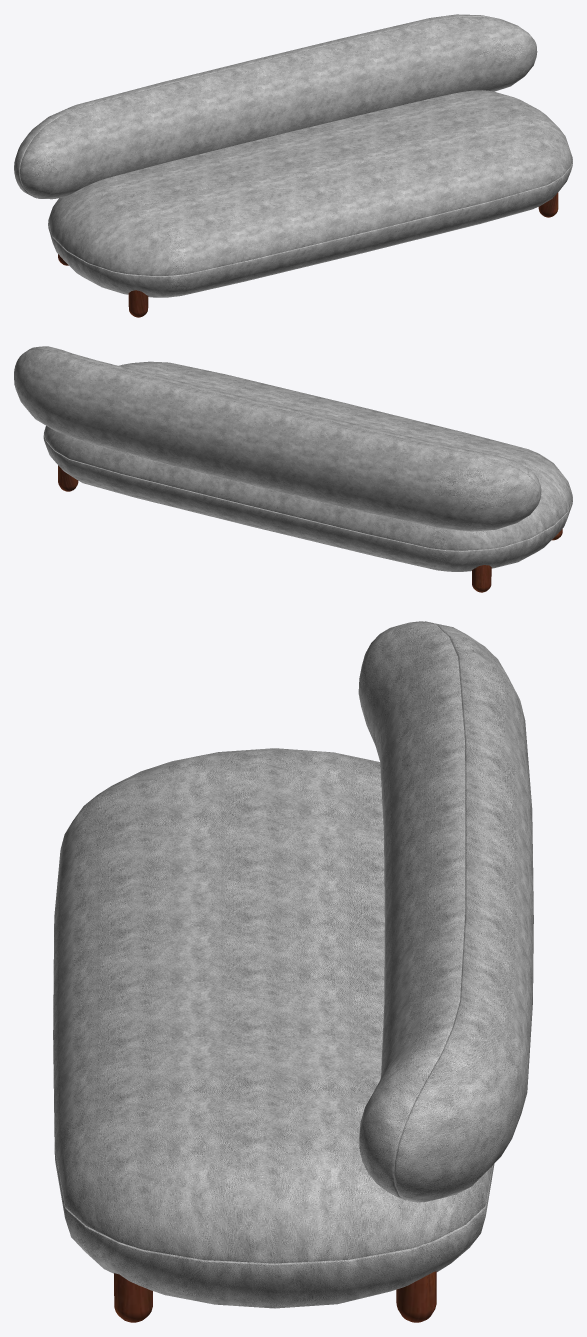
The model's file is redleather_wood-transformed.glb.
3 renders of one model, top to bottom at view 1: azimuth 30°, elevation 25°; view 2: azimuth 150°, elevation 25°; view 3: azimuth 270°, elevation 25°, orthographic. The views are drawn at different scales.
Visible parts, largest first — view 1: Divano_3; view 2: Divano_3; view 3: Divano_3.
Part boxes in pixels (<box>): Divano_3: <box>14,14,572,317</box>; Divano_3: <box>14,346,572,592</box>; Divano_3: <box>53,621,533,1322</box>.
Bounding box in the file's own units: 2.97 × 0.792 × 1.19.
Materials: 2 (2 with a texture image).
